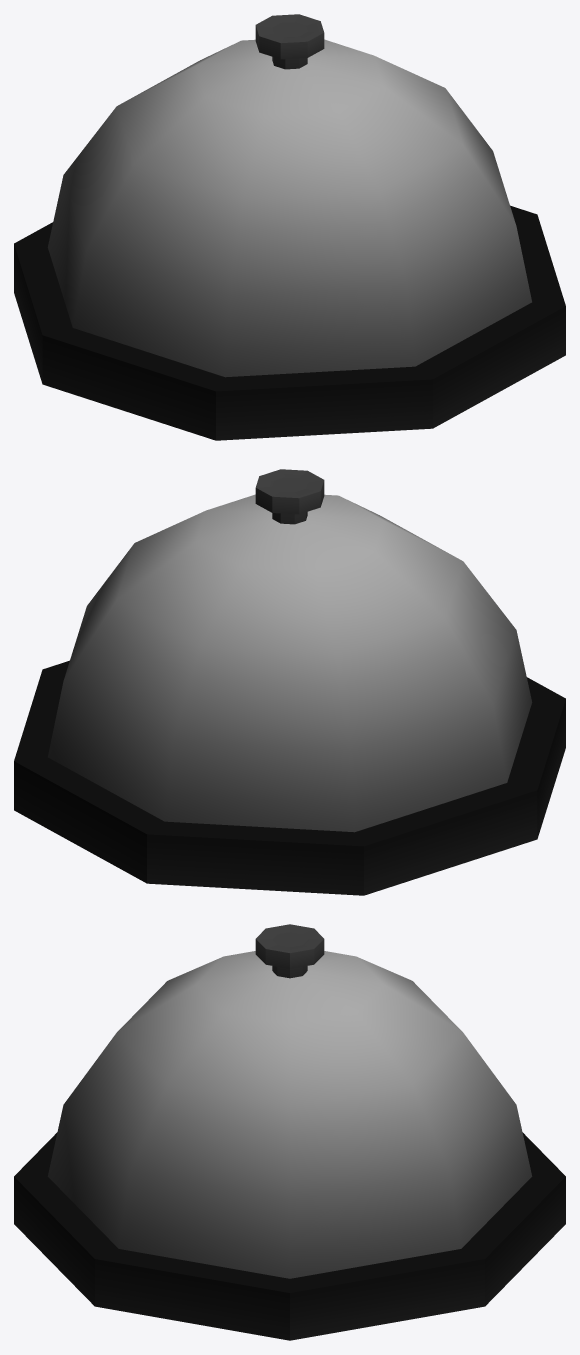
File: Sonnette.fbx
3 views of the same model, one above another, from view 1: azimuth 30°, elevation 25°; view 2: azimuth 150°, elevation 25°; view 3: azimuth 270°, elevation 25° (orthographic). The views are drawn at different scales.
Visible parts, largest first — view 1: Cylinder.021, Cylinder.020; view 2: Cylinder.021, Cylinder.020; view 3: Cylinder.021, Cylinder.020.
Part boxes in pixels (box(x1,y1,x2,y2)): Cylinder.021: box(14, 39, 565, 440); Cylinder.020: box(255, 14, 324, 69); Cylinder.021: box(14, 494, 565, 895); Cylinder.020: box(255, 469, 324, 524); Cylinder.021: box(14, 951, 565, 1340); Cylinder.020: box(255, 924, 324, 978).
Bounding box in the file's own units: 225 × 128 × 225.
